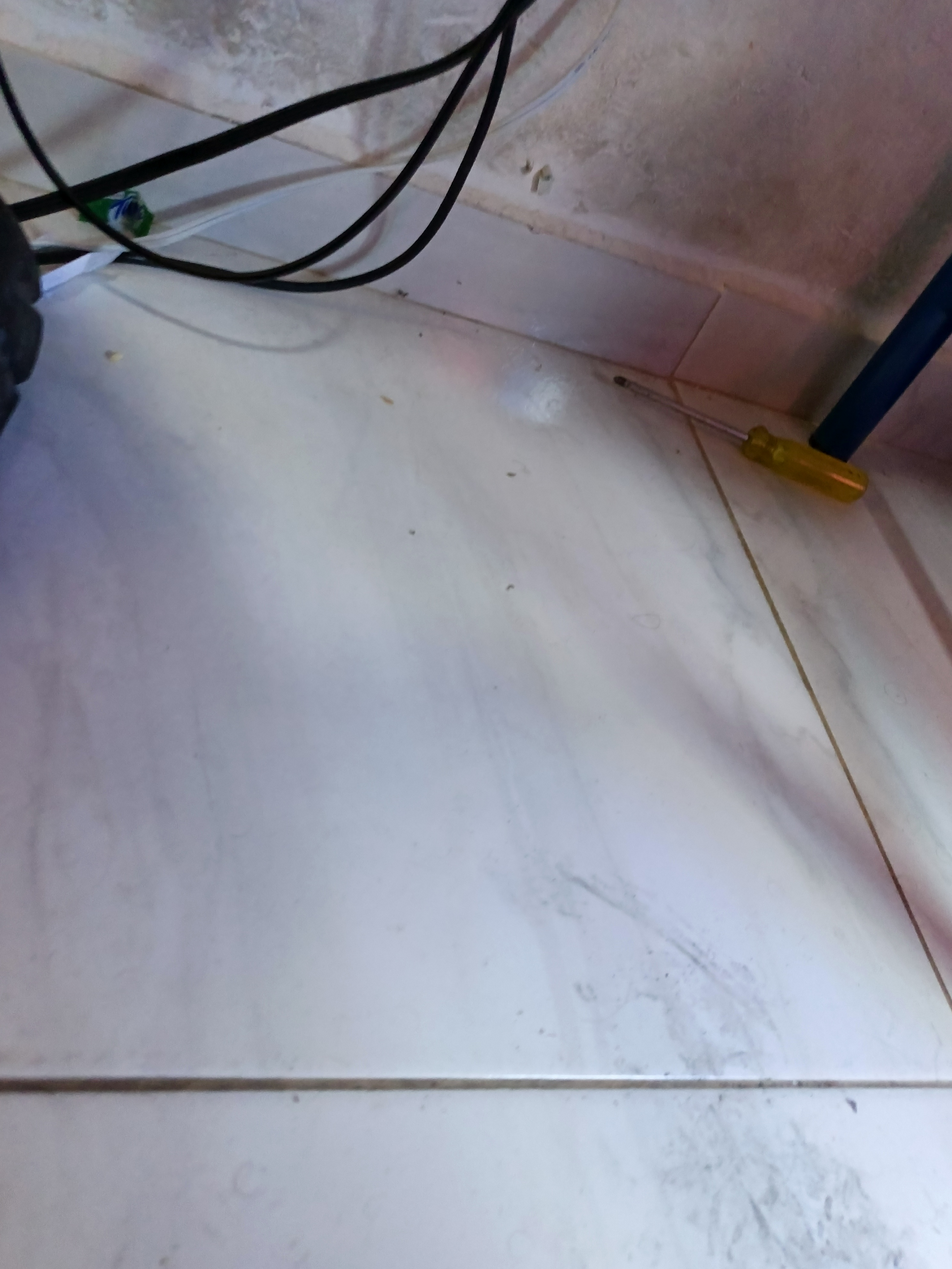Destornillador: (613, 375, 868, 502)
